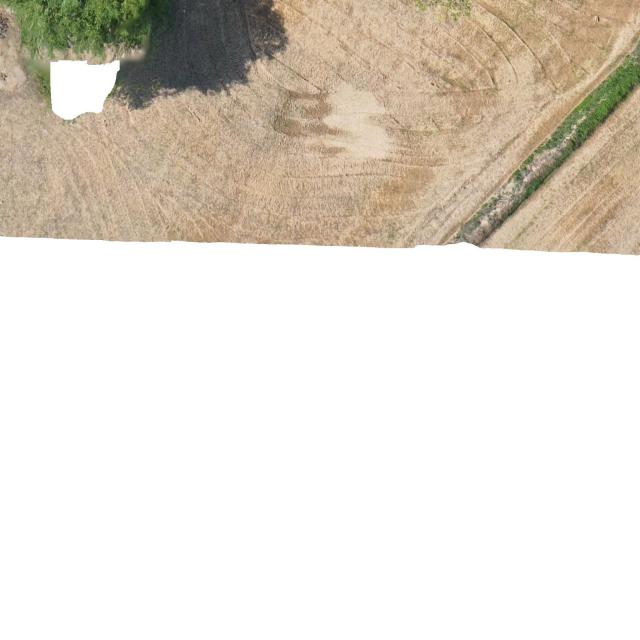Tree: (0, 0, 163, 56)
